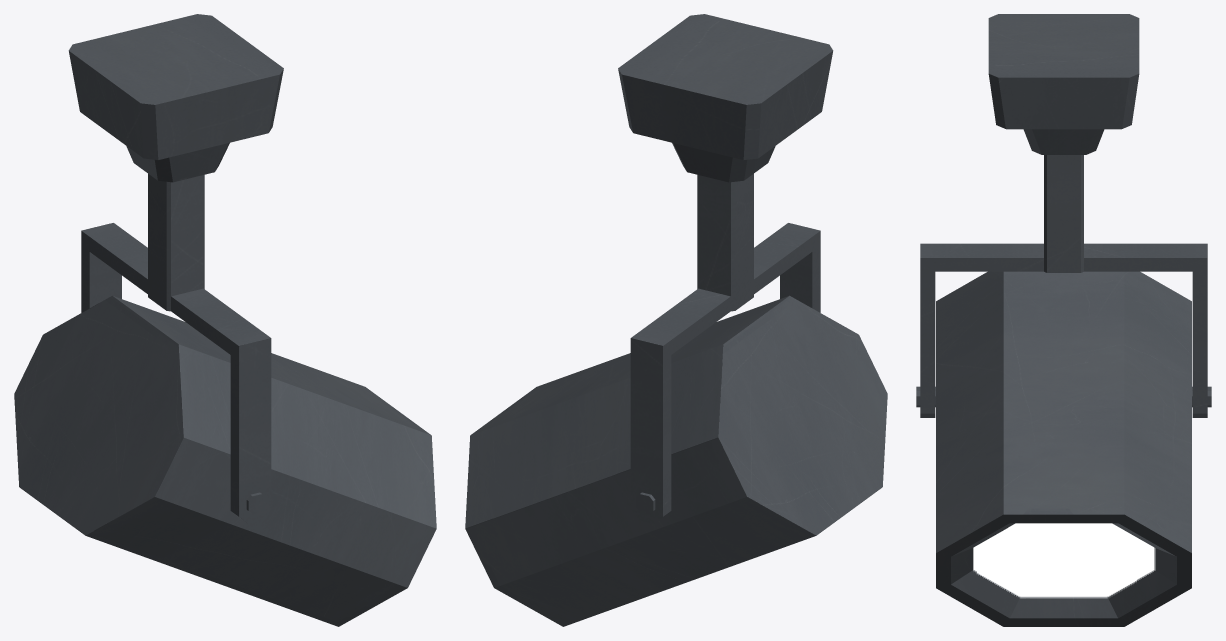
File: spotlight.gltf
3 renders of one model, left to right at view 1: azimuth 30°, elevation 25°; view 2: azimuth 150°, elevation 25°; view 3: azimuth 270°, elevation 25°, orthographic. The views are drawn at different scales.
Visible parts, largest first — view 1: Spotlight.001, Spotlight; view 2: Spotlight.001, Spotlight; view 3: Spotlight.001, Spotlight.
Part boxes in pixels (bbox=[...]): Spotlight.001: bbox=[14, 295, 436, 626]; Spotlight: bbox=[68, 14, 283, 523]; Spotlight.001: bbox=[465, 295, 887, 626]; Spotlight: bbox=[618, 14, 833, 523]; Spotlight.001: bbox=[936, 271, 1191, 626]; Spotlight: bbox=[916, 14, 1211, 417].
Bounding box in the file's own units: 0.2417 × 0.3833 × 0.196.
Materials: 1 (1 with a texture image).
